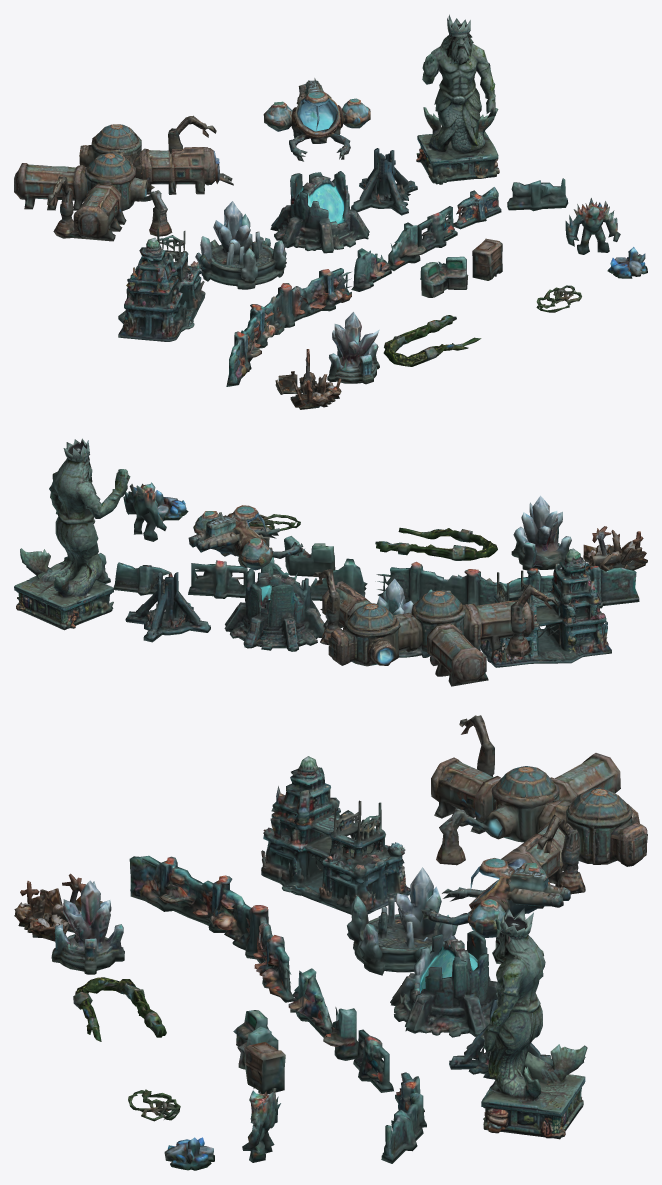
File: Mapa6.glb
3 views of the same model, one above another, from view 1: azimuth 30°, elevation 25°; view 2: azimuth 150°, elevation 25°; view 3: azimuth 270°, elevation 25° (orthographic). The views are drawn at different scales.
Visible parts, largest first — view 1: tripo_node_21a0af3f-fa36-497e-8104-5d47cd251b30; view 2: tripo_node_21a0af3f-fa36-497e-8104-5d47cd251b30; view 3: tripo_node_21a0af3f-fa36-497e-8104-5d47cd251b30.
Part boxes in pixels (left/top/right/bottom): tripo_node_21a0af3f-fa36-497e-8104-5d47cd251b30: left=14, top=14, right=647, bottom=409; tripo_node_21a0af3f-fa36-497e-8104-5d47cd251b30: left=14, top=438, right=647, bottom=686; tripo_node_21a0af3f-fa36-497e-8104-5d47cd251b30: left=14, top=715, right=647, bottom=1170.
Size of the model in its own units: 0.9806 by 0.3276 by 0.8469.
1 material, 1 textured.
